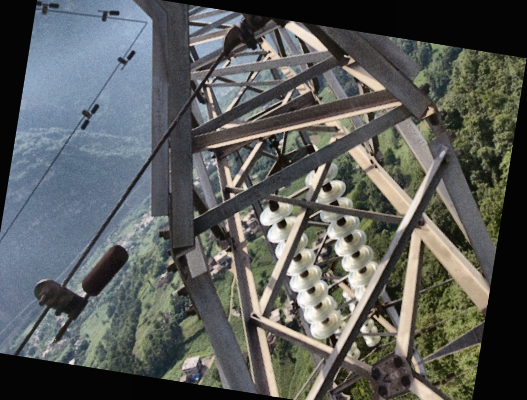damper: (79, 102, 99, 131)
damper_defect: (27, 242, 131, 346), (116, 47, 137, 72), (97, 8, 121, 23)
